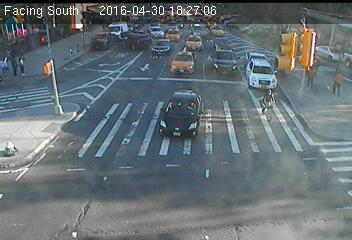neg: (161, 80, 195, 126), (248, 84, 278, 124), (221, 45, 251, 85), (113, 49, 143, 88), (254, 27, 274, 53), (165, 33, 180, 53), (194, 29, 209, 49), (219, 29, 233, 47)
pos: (328, 68, 348, 96), (302, 61, 322, 88), (3, 52, 21, 76), (15, 54, 32, 76)
